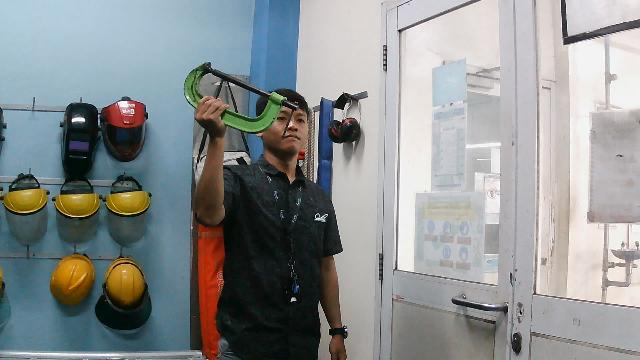tekiro_c_clamp: (175, 51, 301, 141)
